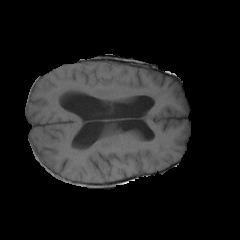glioma: (53, 77, 157, 108)
